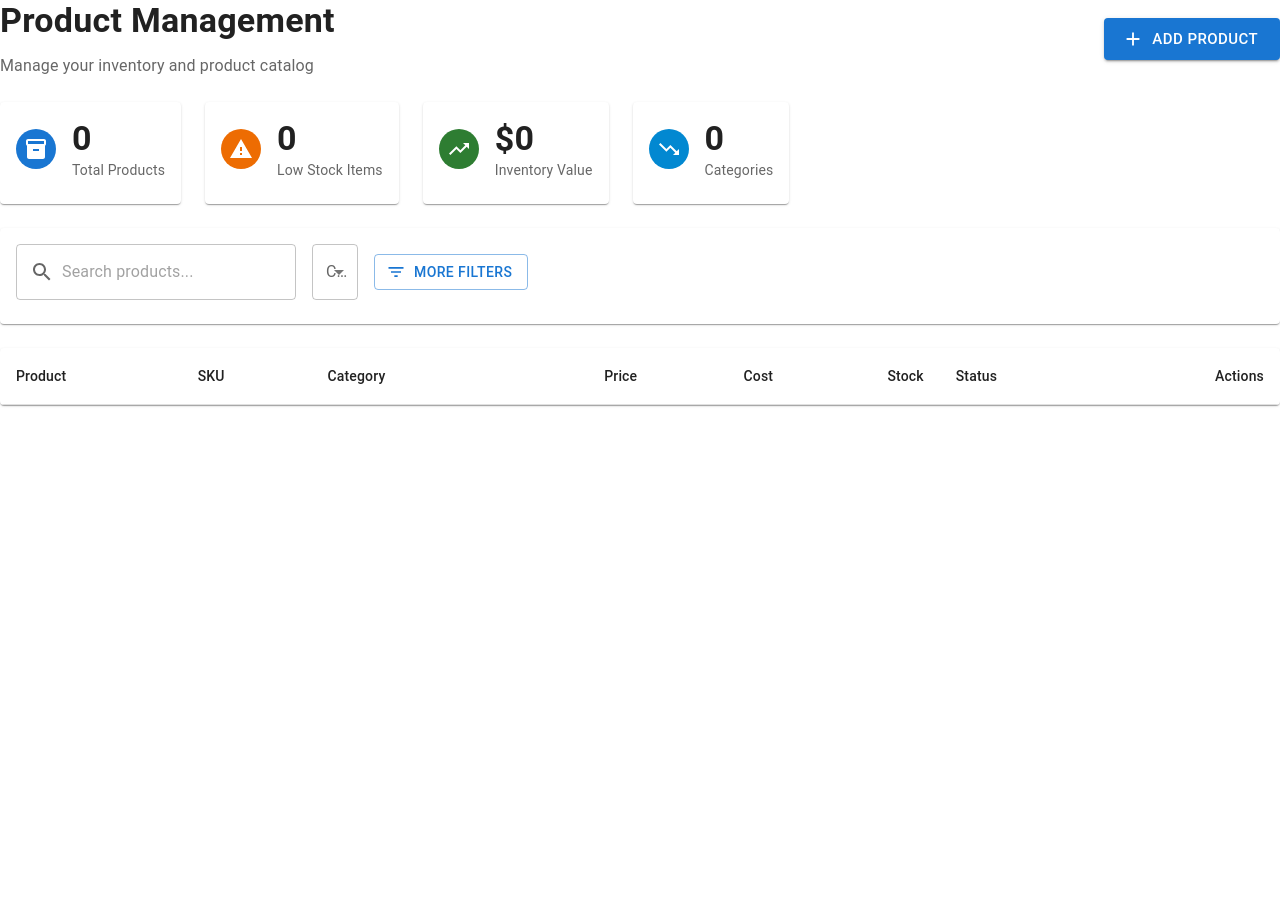
Test: ProductManagement Component › add product dialog opens
Click the button "Add Product" at (1192, 39), box [1104,18,1279,60]
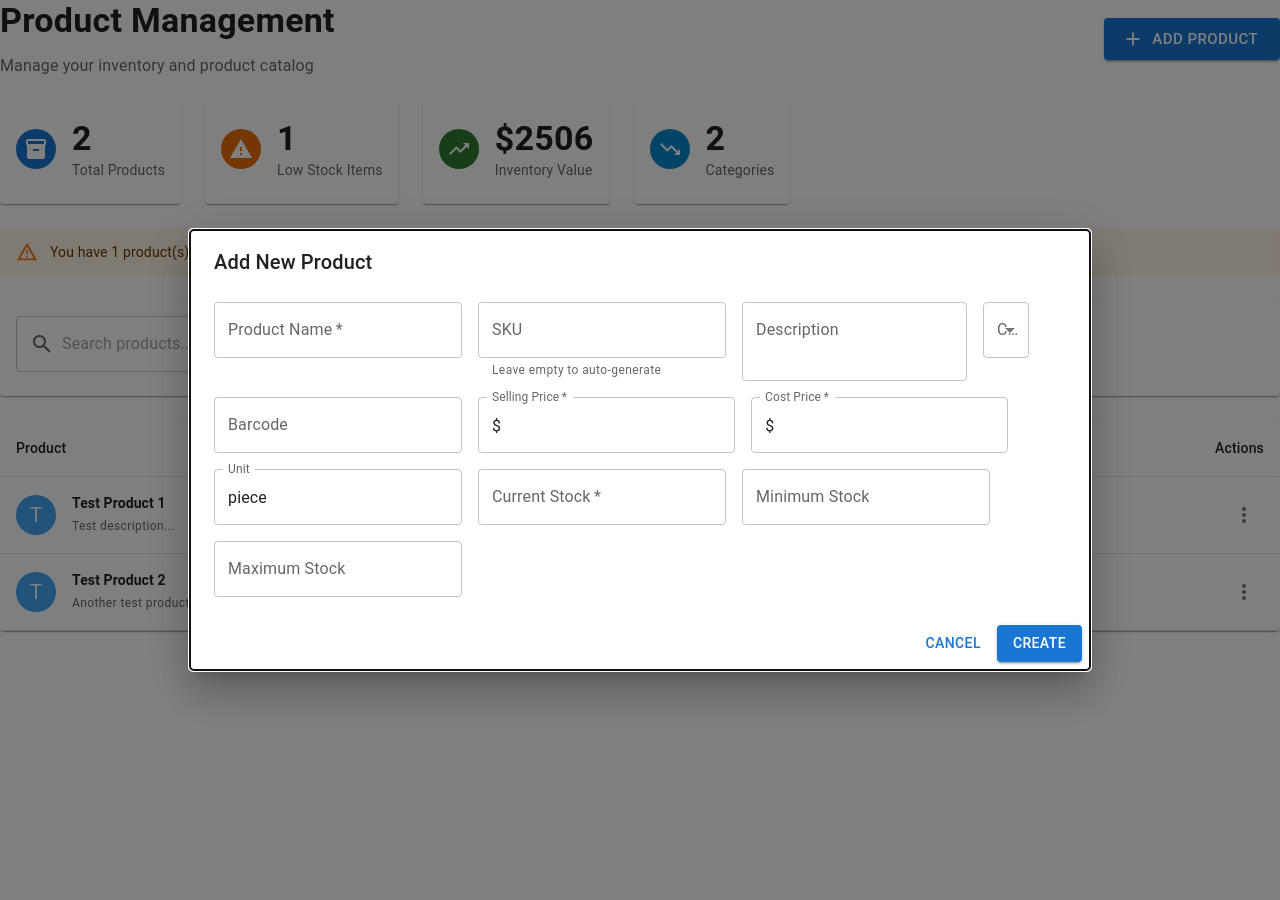
Now the heading "Add New Product" is shown, box [214,250,372,274]
